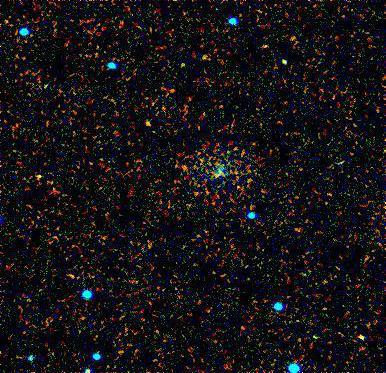star: (132, 110, 162, 140)
